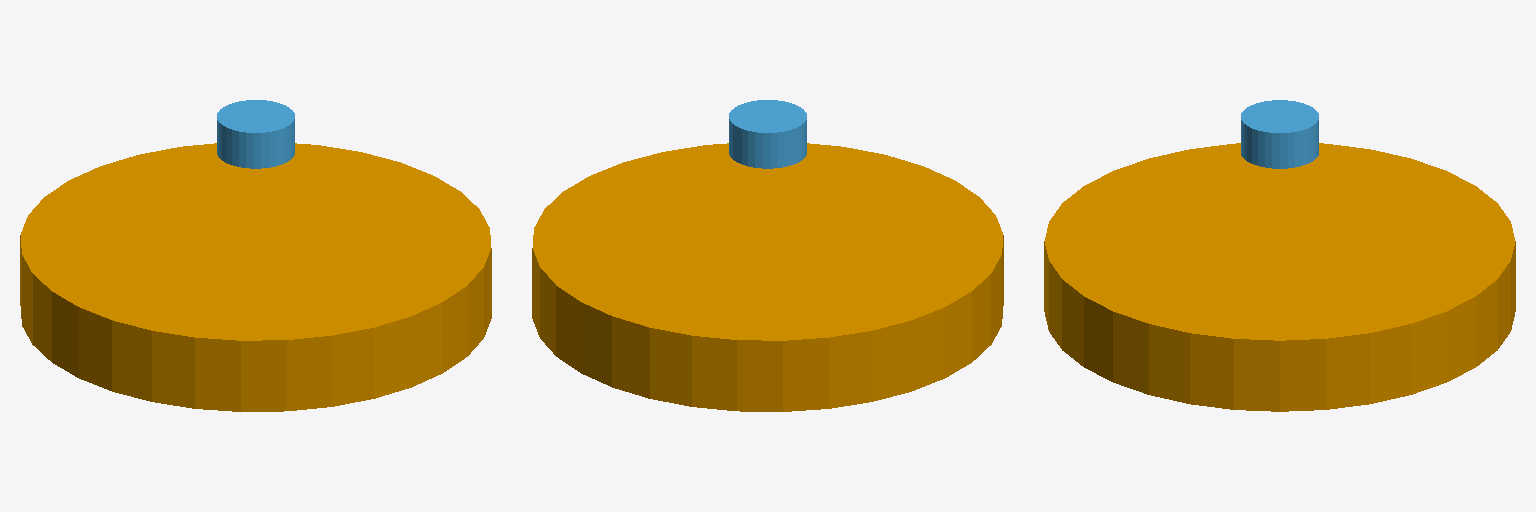
URDF robot description (test_ray):
<robot name="test_ray">
	<link name="base_link">
		
		<inertial>
			<mass value="0.1"/>
			<inertia ixx="0.1" ixy="0.0" ixz="0.0" iyy="0.1" iyz="0.0" izz="0.1"/>
		</inertial>
		
		<collision>
			<geometry>
				<cylinder length="0.1" radius="0.3"/>
			</geometry>
		</collision>
		<visual>
			<geometry>
				<cylinder length="0.1" radius="0.3"/>
			</geometry>
		</visual>
	</link>
	<link name="lidar_link">
		<inertial>
			<mass value="0.1"/>
			<inertia ixx="0.1" ixy="0.0" ixz="0.0" iyy="0.1" iyz="0.0" izz="0.1"/>
		</inertial>
		
		<collision>
			<geometry>
				<cylinder length="0.05" radius="0.05"/>
			</geometry>
		</collision>
		<visual>
			<geometry>
				<cylinder length="0.05" radius="0.05"/>
			</geometry>
		</visual>
	</link>
	<joint name="erlecopter_lidar_joint_1" type="continuous">
		<parent link="base_link" />
		<child link="lidar_link"/>
		<!-- 
		<origin xyz="0 0 0.2" rpy="0.52359877559 0 0"/>
	
		<axis xyz="0 0.5 0.866025404"/>
		-->
		<origin xyz="0 0 0.2" rpy="0 0 0"/>
	
		<axis xyz="0 0 1"/>
	</joint>

	<gazebo reference="lidar_link">
		<sensor type="ray" name="self_made_lidar">
			<always_on>true</always_on>			
			<visualize>true</visualize>
			<update_rate>40</update_rate>
			<ray>
				<scan>
					<horizontal>
						<samples>720</samples>
						<resolution>1</resolution>
						<min_angle>0</min_angle>
						<max_angle>1.5707963</max_angle>
					</horizontal>
				</scan>
				<range>
					<min>0.10</min>
					<max>10.0</max>
					<resolution>0.01</resolution>
				</range>
			</ray>
			<plugin name="self_made_lidar_controller" filename="libgazebo_ros_laser.so">
				<topicName>/test_ray/laser/scan</topicName>
				<frameName>lidar_link</frameName>
			</plugin>
		</sensor>
	</gazebo>
	<gazebo>
		<plugin name="lidar_test_plugin" filename="liblidar_test_plugin_2.so">
			<jointName>erlecopter_lidar_joint_1</jointName>
		</plugin>
	</gazebo>
	<gazebo>
		<plugin name="joint_state_publisher" filename="libgazebo_ros_joint_state_publisher.so">
			<jointName>erlecopter_lidar_joint_1</jointName>
		</plugin>
	</gazebo>
</robot>

--- What the picture shows (computed from the rendered views, not written in the file) ---
3 views of the same robot in one strip: view 1: azimuth 30°, elevation 25°; view 2: azimuth 150°, elevation 25°; view 3: azimuth 270°, elevation 25° (orthographic).
Model test_ray with 2 links and 1 joints (1 continuous), rooted at base_link, posed every joint at zero.
Links seen in each view (by area): view 1: base_link, lidar_link; view 2: base_link, lidar_link; view 3: base_link, lidar_link.
Boxes of the visible links, <box> form: base_link: <box>20,143,491,411</box>; lidar_link: <box>217,100,294,168</box>; base_link: <box>532,143,1003,411</box>; lidar_link: <box>729,100,806,168</box>; base_link: <box>1044,143,1515,411</box>; lidar_link: <box>1241,100,1318,168</box>.
Bounding box of the posed robot: 0.6 × 0.6 × 0.275 m (x, y, z).
Geometry: primitives only (box / cylinder / sphere), no mesh files.
